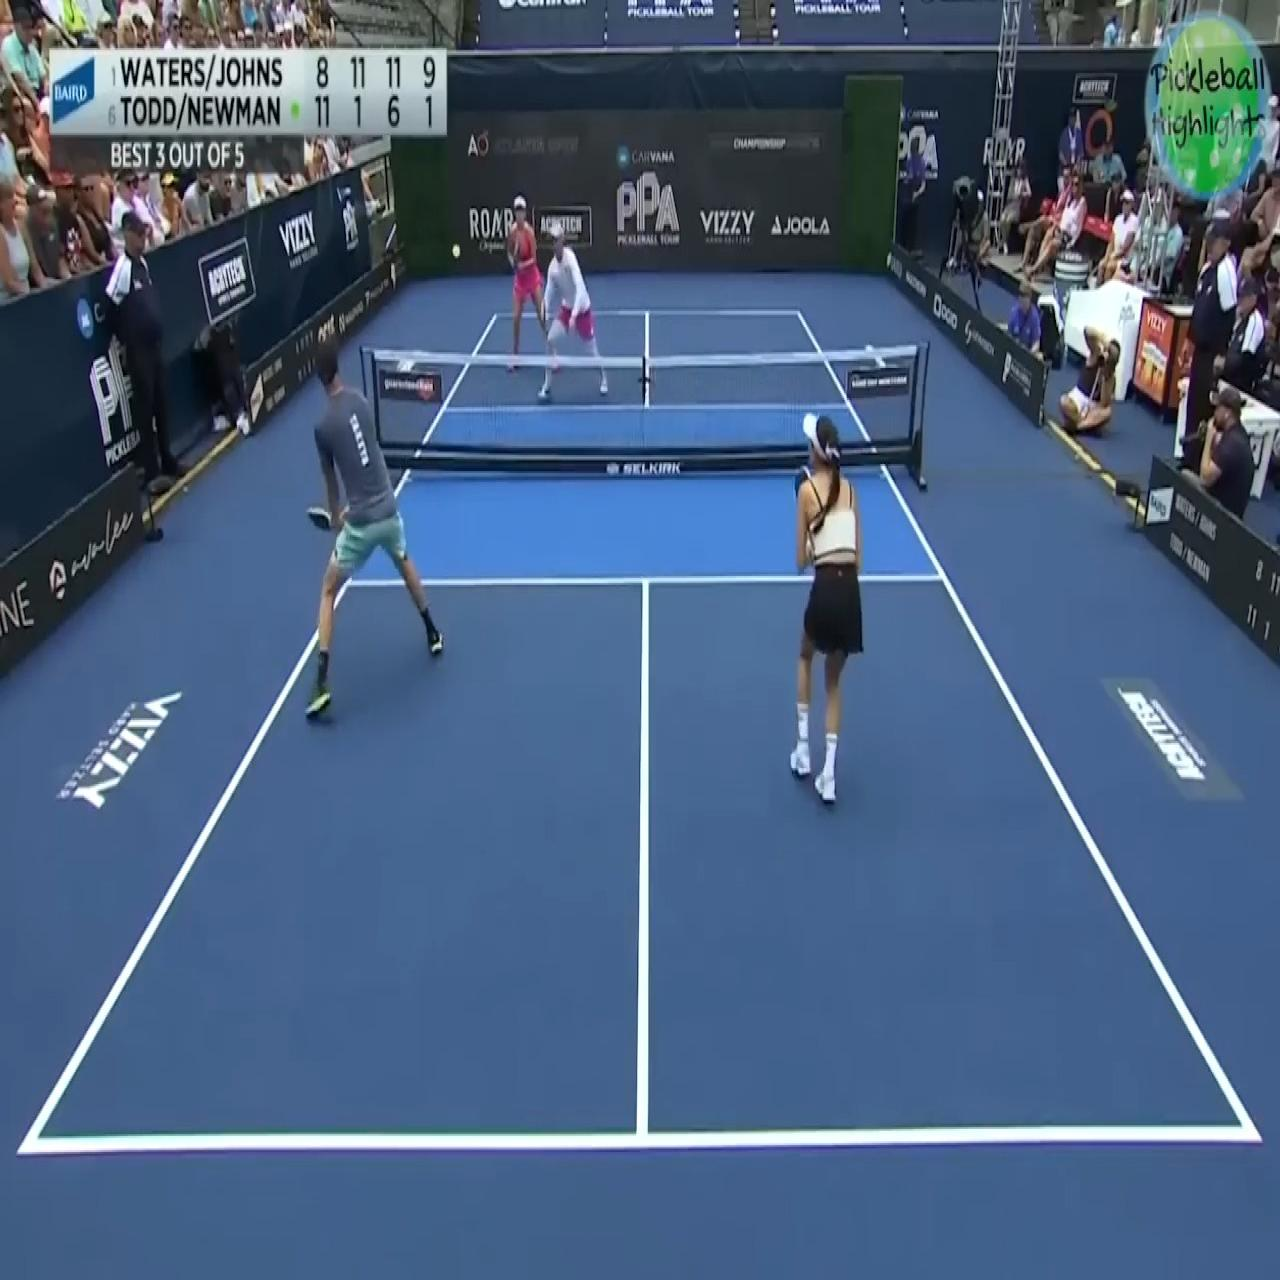Pickleball: (450, 240, 461, 261)
